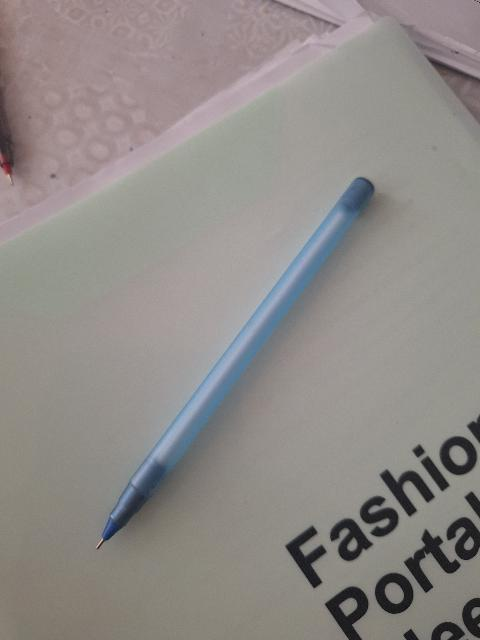writing_tool: (88, 175, 377, 552)
